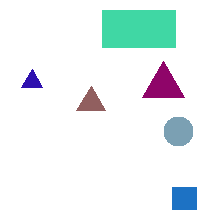circle: (164, 117, 192, 145)
rectangle: (102, 10, 175, 47), (172, 187, 196, 209)
triangle: (142, 61, 184, 97), (76, 86, 105, 110), (21, 69, 42, 87)
